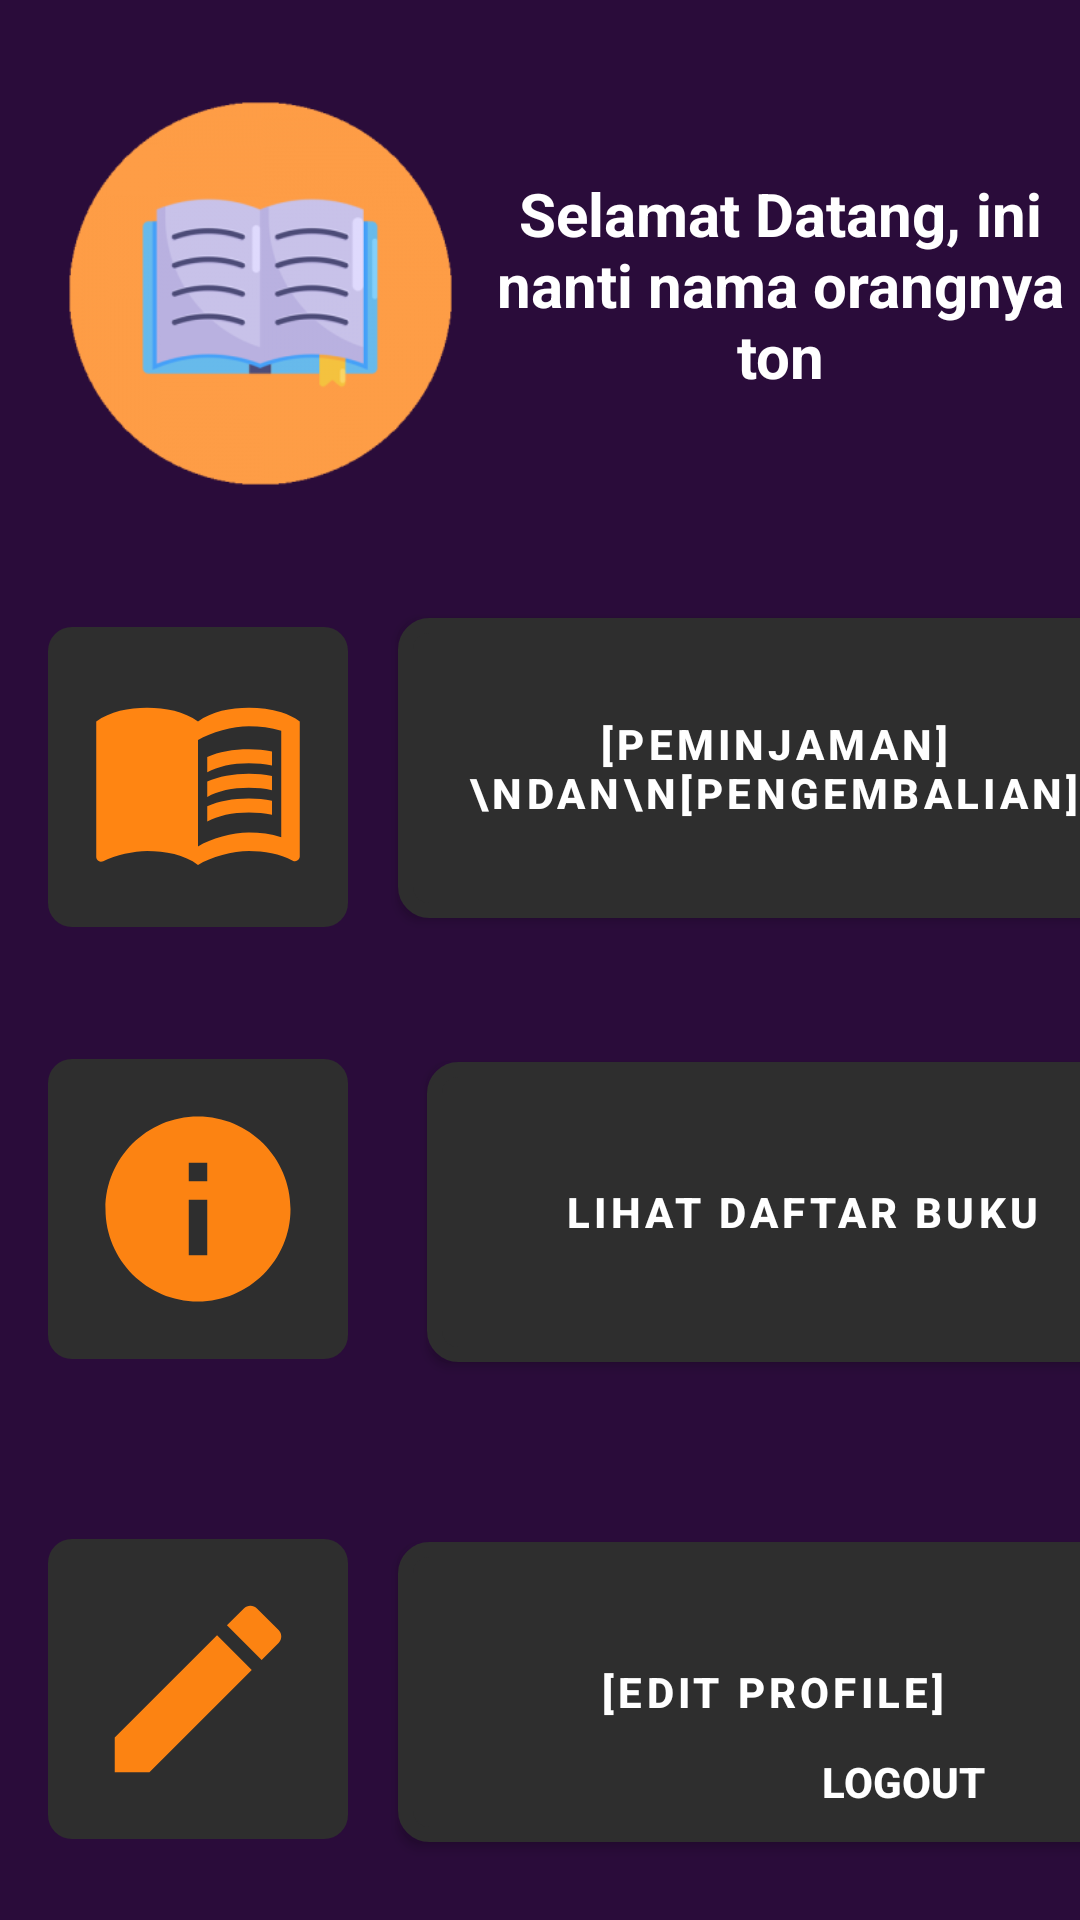

Where to tap for icons on this 1080*1920 app screen, as point (x, y):
info: point (198, 1209)
